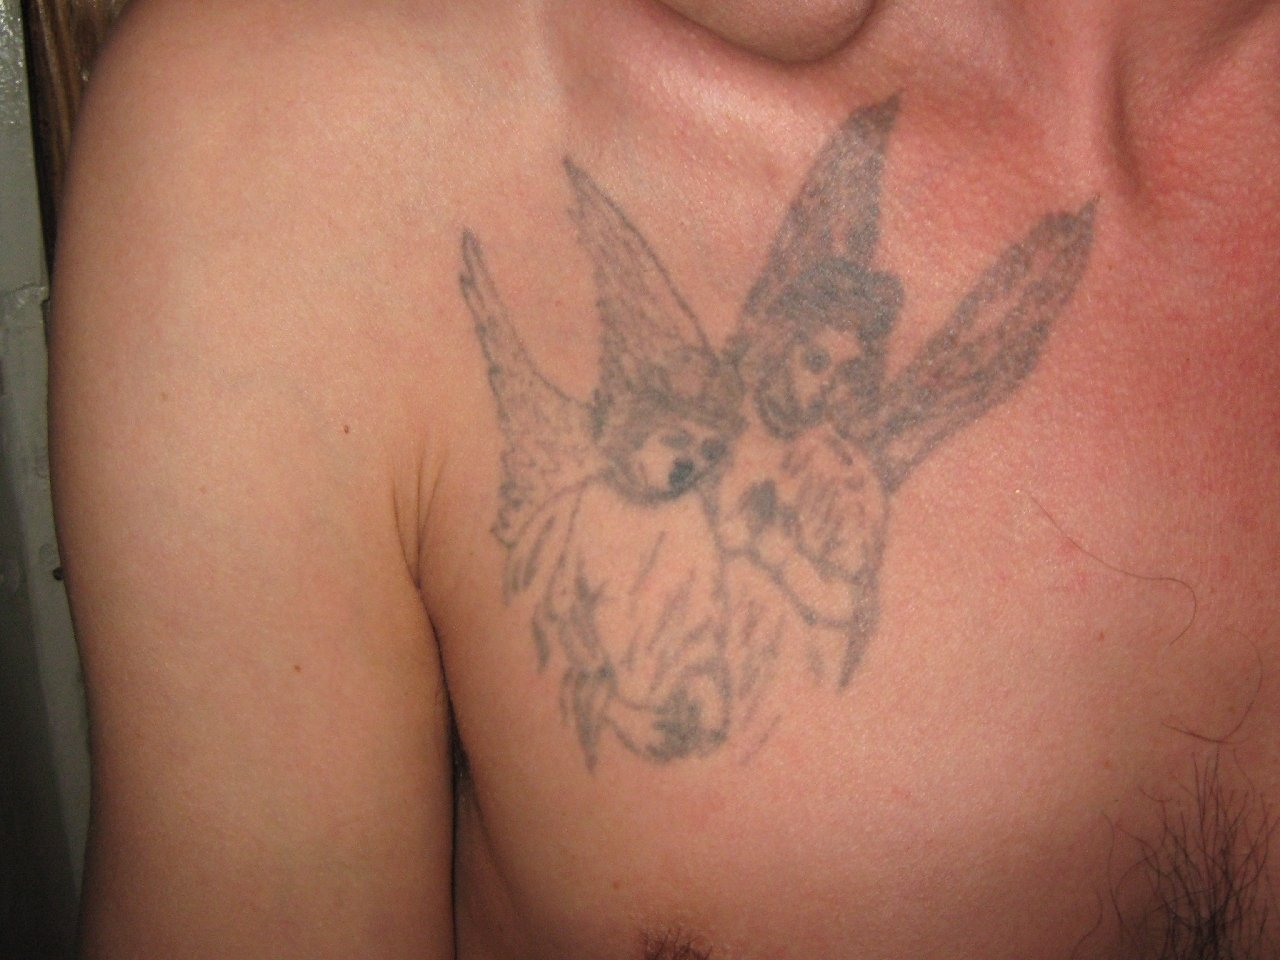tatu1_angel: (447, 79, 1086, 791)
